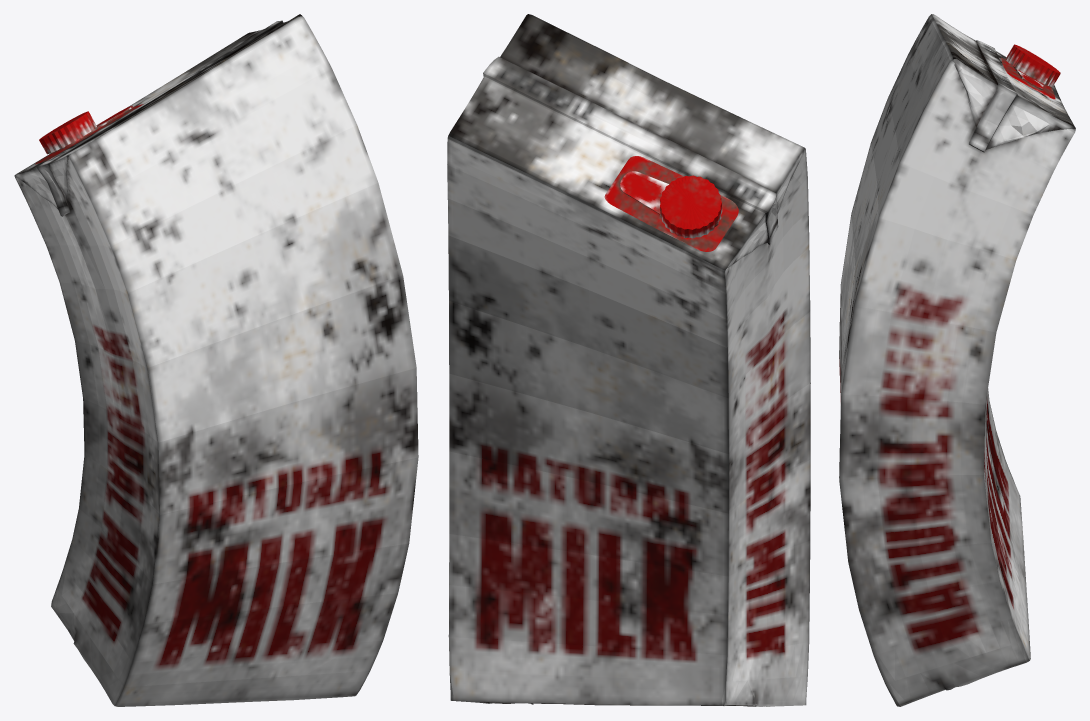
The model's file is bend_high_0.obj.
3 renders of one model, left to right at view 1: azimuth 30°, elevation 25°; view 2: azimuth 150°, elevation 25°; view 3: azimuth 270°, elevation 25°, orthographic. The views are drawn at different scales.
Visible parts, largest first — view 1: model; view 2: model; view 3: model.
Part boxes in pixels (bbox=[...]): model: bbox=[14, 14, 418, 706]; model: bbox=[447, 14, 810, 706]; model: bbox=[839, 14, 1075, 706].
Bounding box in the file's own units: 0.1063 × 0.2238 × 0.0755.
1 material, 1 textured.
